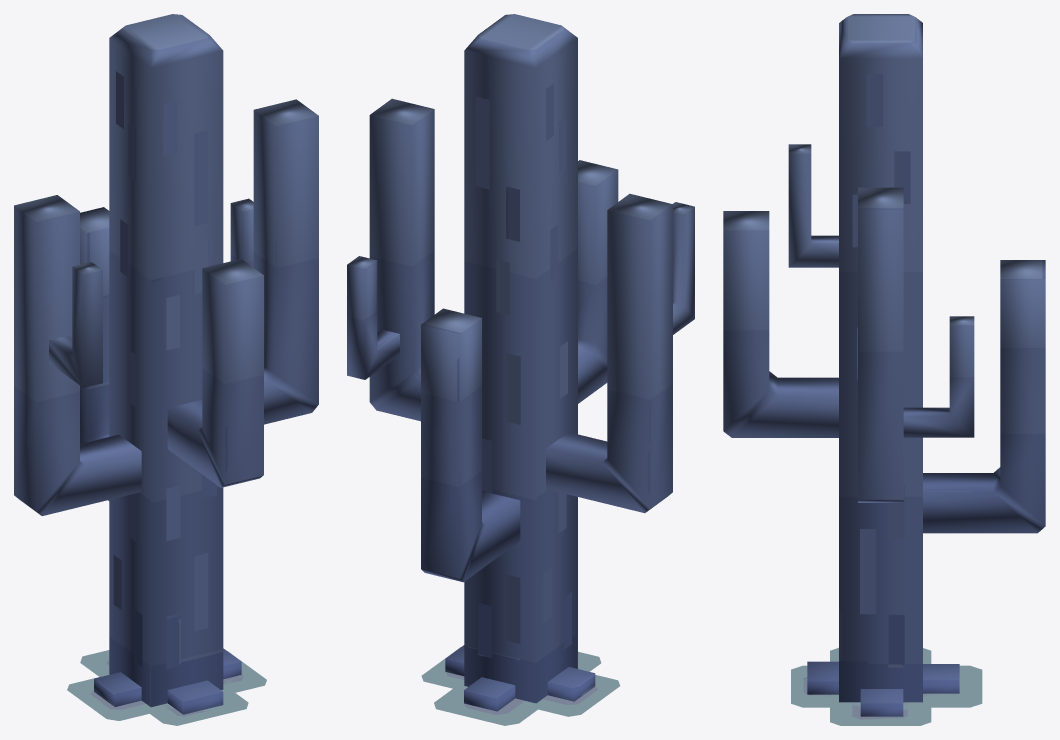
Rendered from B_mountain2_tree00.fbx.
3 views of the same model, side by side, from view 1: azimuth 30°, elevation 25°; view 2: azimuth 150°, elevation 25°; view 3: azimuth 270°, elevation 25° (orthographic).
Parts seen in each view (by area): view 1: model 1, model; view 2: model 1, model; view 3: model 1, model.
Part boxes in pixels (x1,y1,x2,y2): model 1: [14, 14, 318, 725]; model: [67, 650, 266, 725]; model 1: [347, 14, 694, 725]; model: [421, 647, 620, 725]; model 1: [723, 14, 1045, 725]; model: [791, 647, 982, 725].
Size of the model in its own units: 2.99 by 6.6 by 2.93.
1 material, 1 textured.
